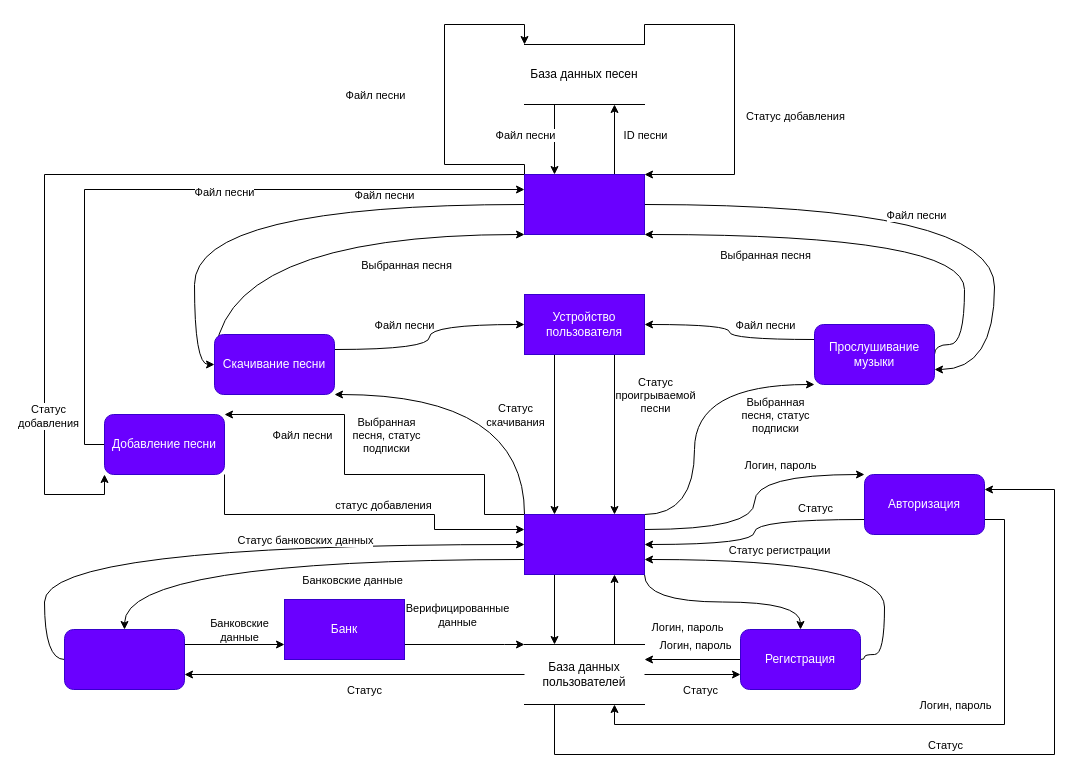
The diagram is 1080 pixels wide and 780 high, and some of its shapes have lost their labels. The shapes that lost their labels are listed below. From the top down, each one's centre as x and y in pixels, then its label:
At [584,204]: "Сервис".
At [584,544]: "Пользователь".
At [124,659]: "Оформить подписку".
